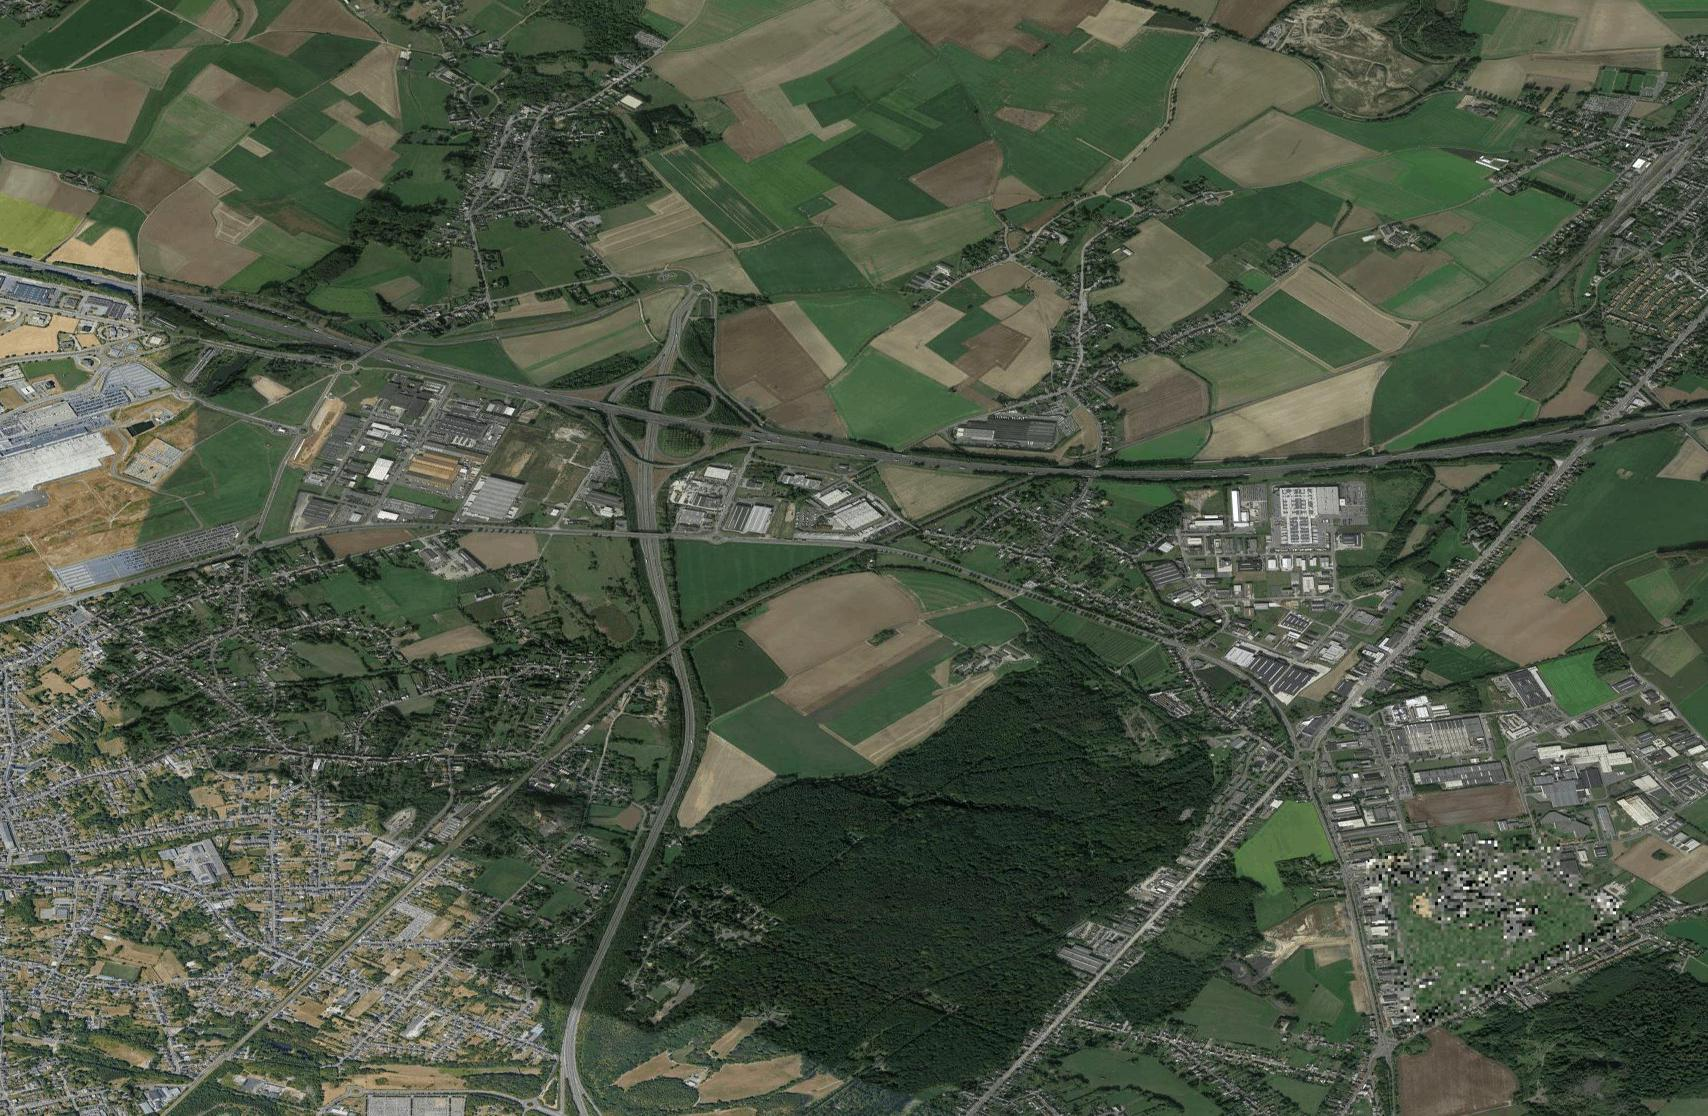industrial: (1147, 486, 1382, 668), (317, 389, 527, 537), (687, 460, 876, 546)
motorway: (148, 281, 340, 359), (339, 335, 524, 397), (525, 382, 701, 431), (627, 356, 683, 493), (632, 742, 693, 866), (580, 869, 640, 993), (702, 431, 890, 465), (890, 447, 1078, 481), (1082, 455, 1281, 486), (1283, 438, 1449, 475), (627, 492, 675, 614), (1449, 418, 1591, 458), (652, 617, 698, 739), (551, 991, 588, 1116), (1588, 414, 1708, 436)
